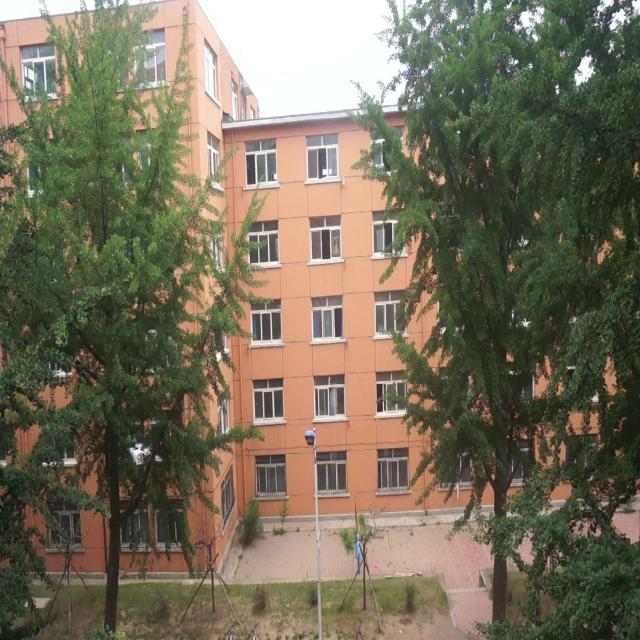drone: (128, 440, 152, 470)
